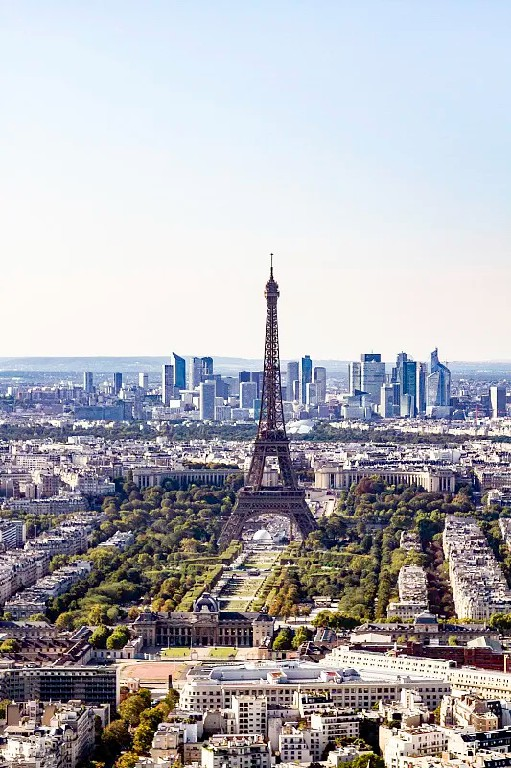Eiffel: (217, 253, 321, 549)
